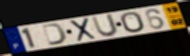1: (21, 27, 37, 49)
6: (145, 8, 166, 31)
D: (41, 22, 69, 47)
O: (119, 11, 147, 34)
U: (90, 13, 120, 38)
X: (69, 17, 98, 43)
